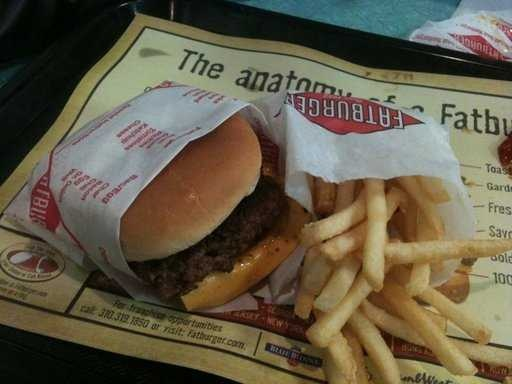hamburger: (48, 76, 283, 299)
